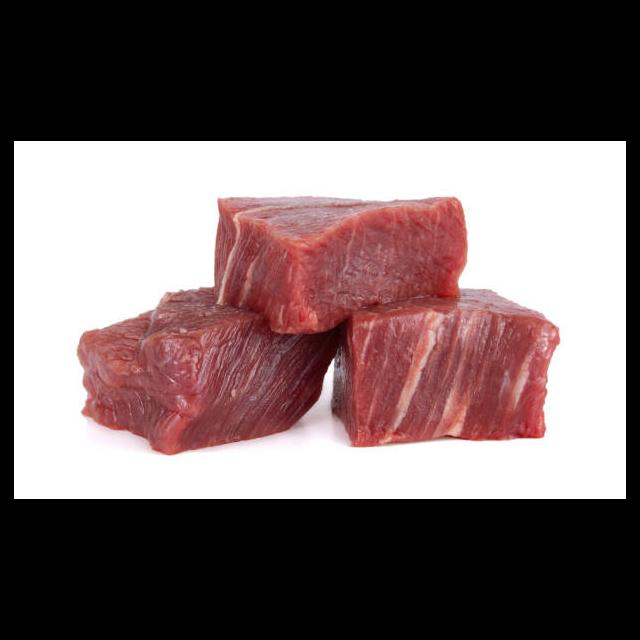beef: (75, 195, 562, 458)
